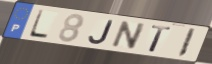8: (57, 13, 86, 43)
I: (175, 27, 197, 59)
J: (88, 19, 116, 45)
L: (27, 9, 50, 40)
N: (109, 20, 148, 51)
T: (147, 24, 173, 54)
